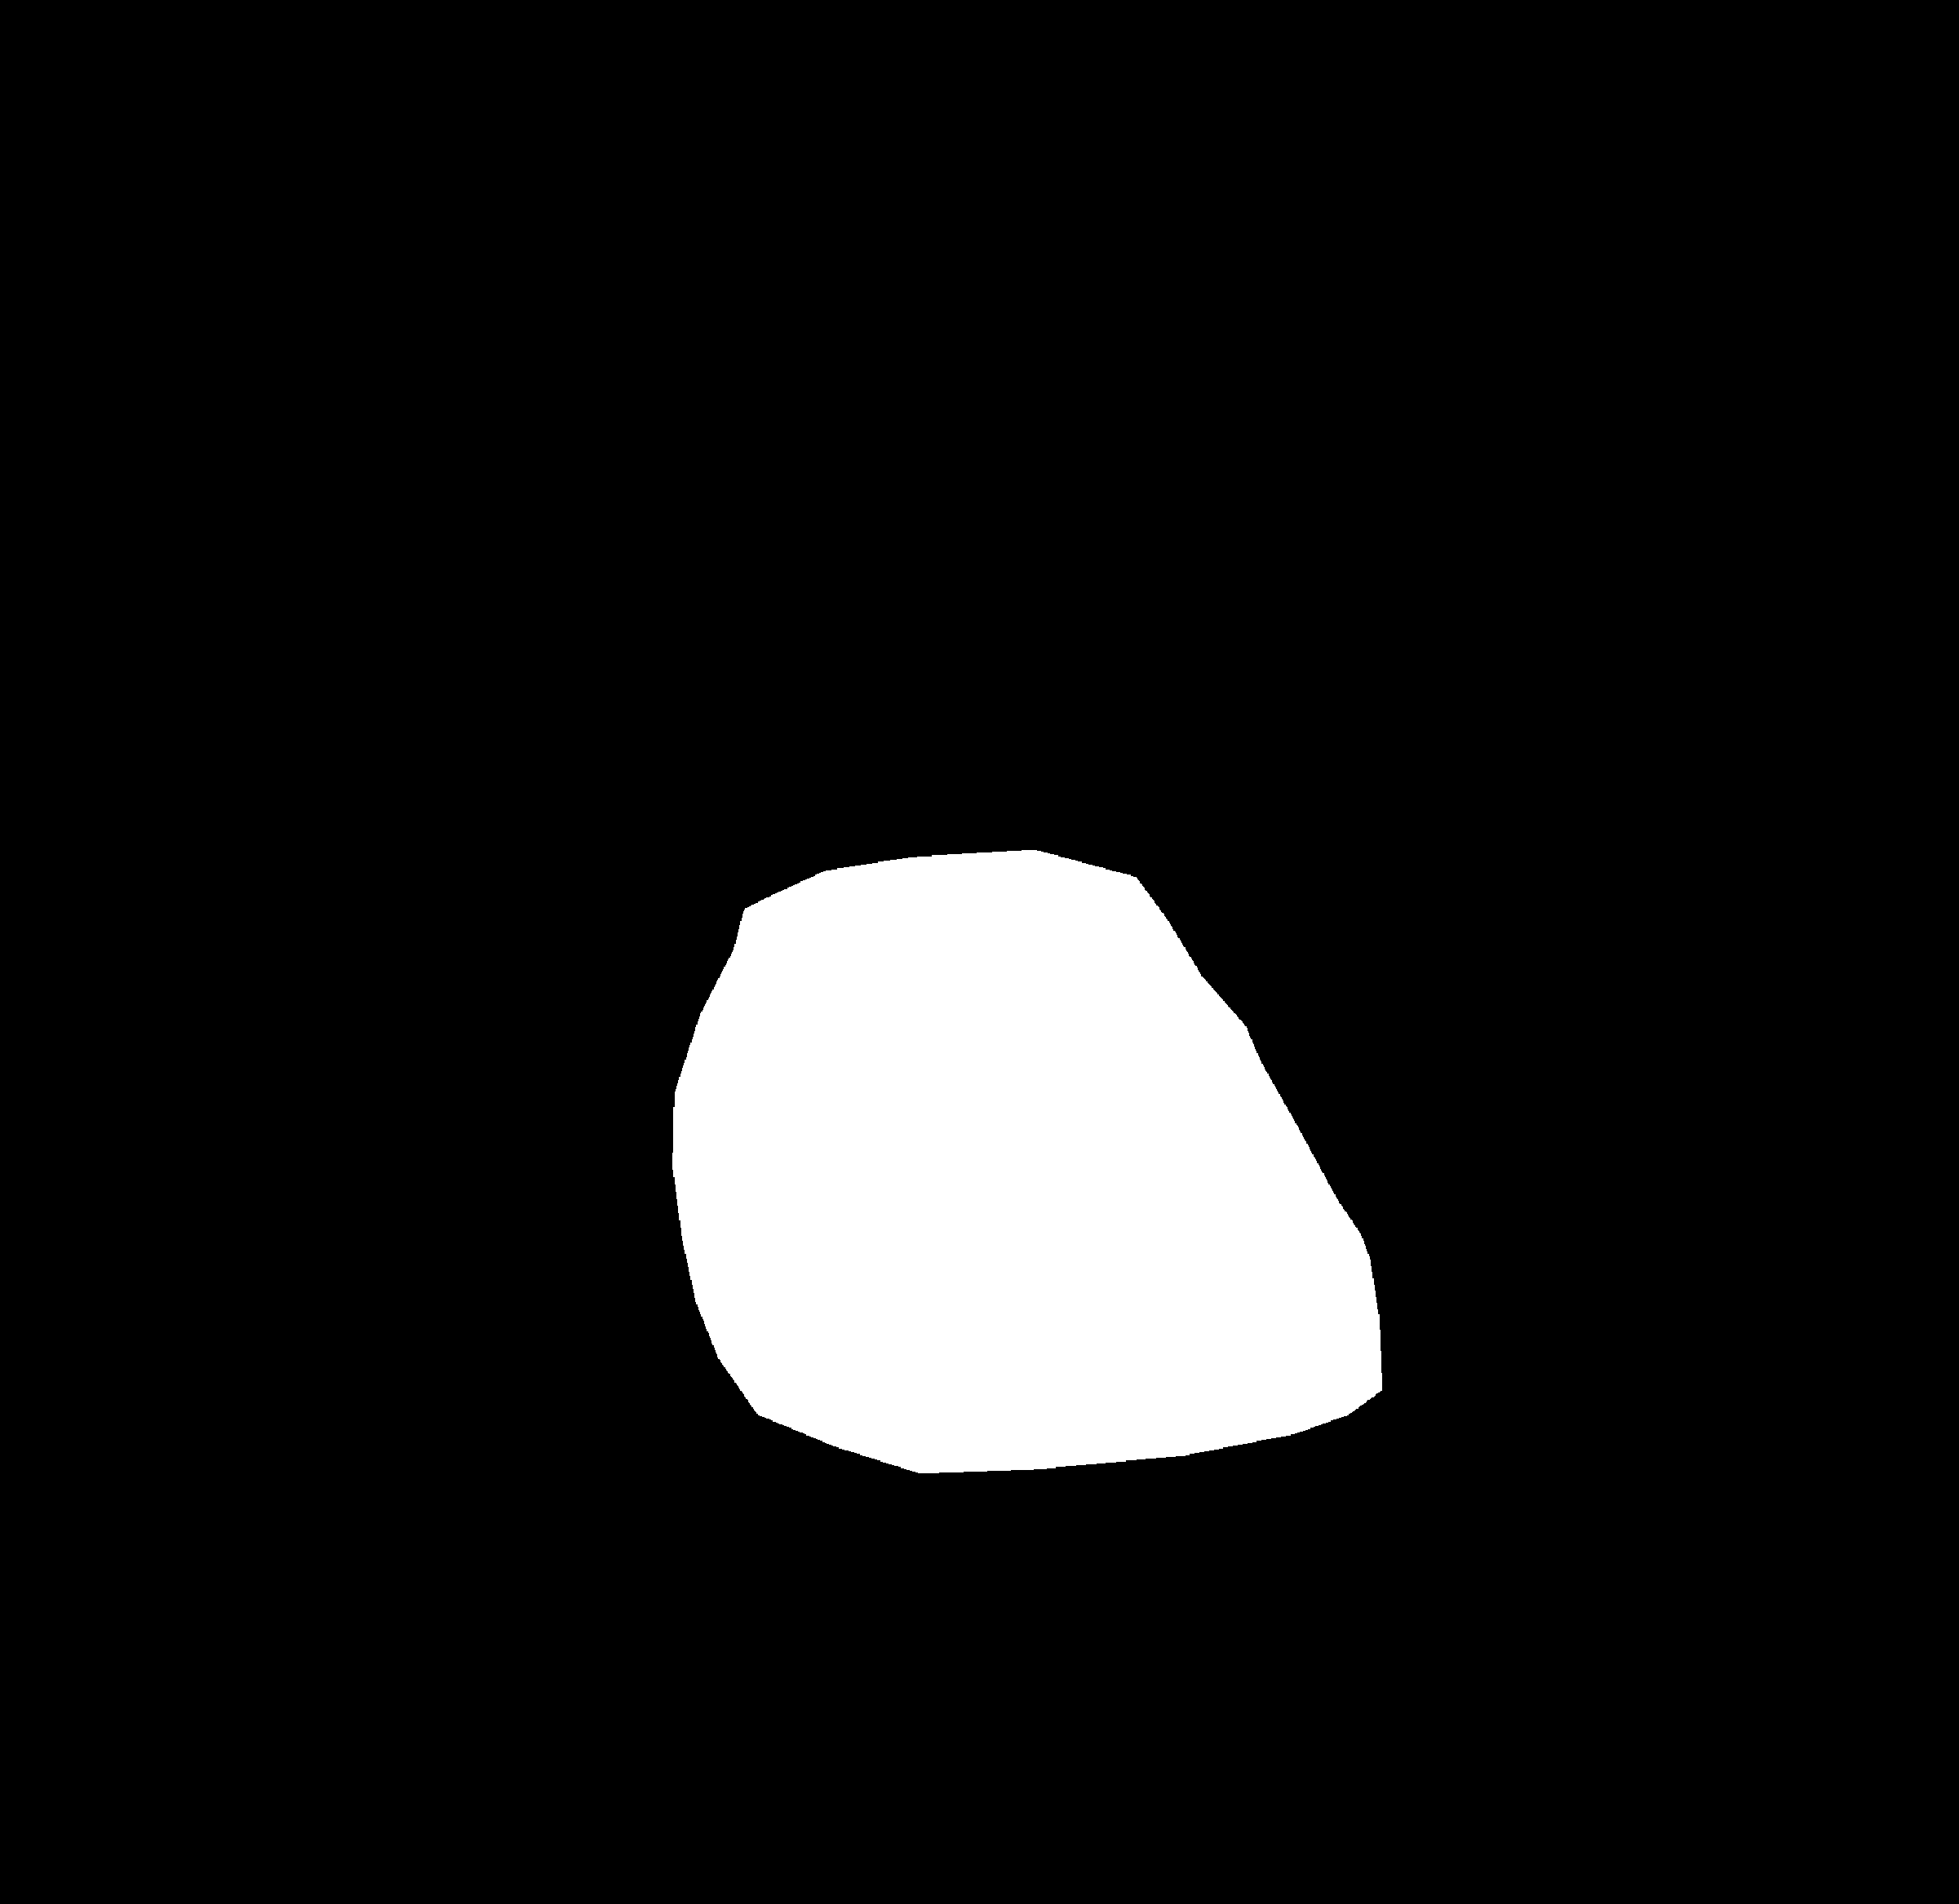heart: (670, 904, 1382, 1479)
left_lung: (175, 199, 869, 1717)
right_lung: (995, 185, 1763, 1647)
